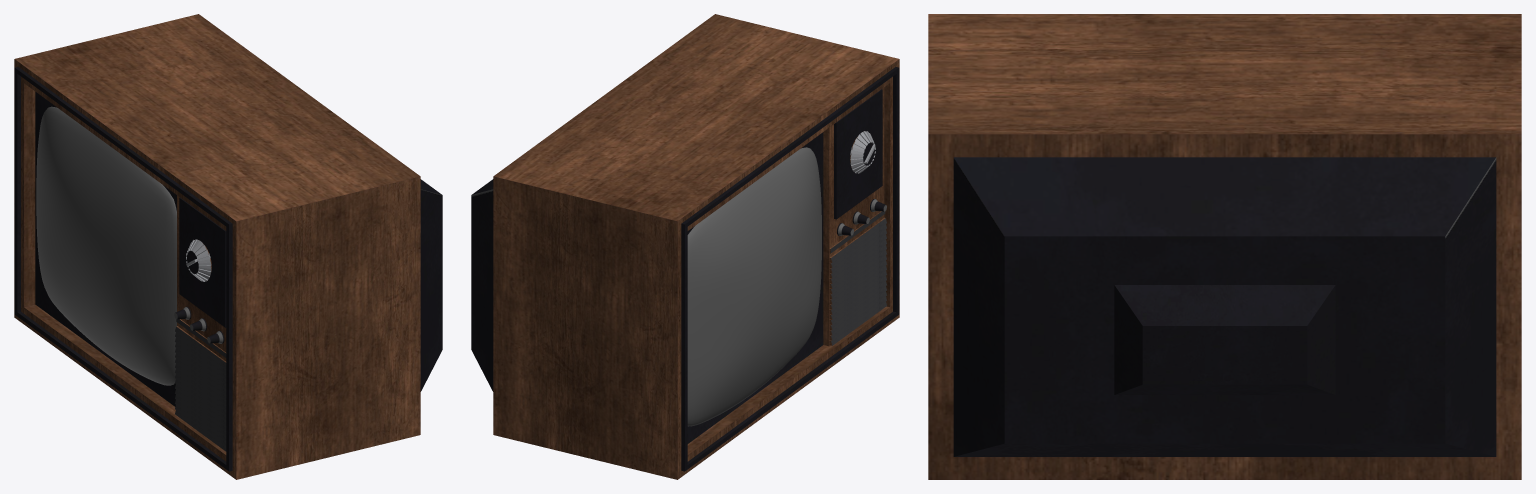
Rendered from tv-vintage.glb.
3 views of the same model, side by side, from view 1: azimuth 30°, elevation 25°; view 2: azimuth 150°, elevation 25°; view 3: azimuth 270°, elevation 25° (orthographic). The views are drawn at different scales.
Visible parts, largest first — view 1: TV_Untitled; view 2: TV_Untitled; view 3: TV_Untitled.
Part boxes in pixels (<box>): TV_Untitled: <box>14,14,442,479</box>; TV_Untitled: <box>471,14,899,479</box>; TV_Untitled: <box>928,14,1521,479</box>.
Bounding box in the file's own units: 1.41 × 1.29 × 2.
Materials: 1 (1 with a texture image).
